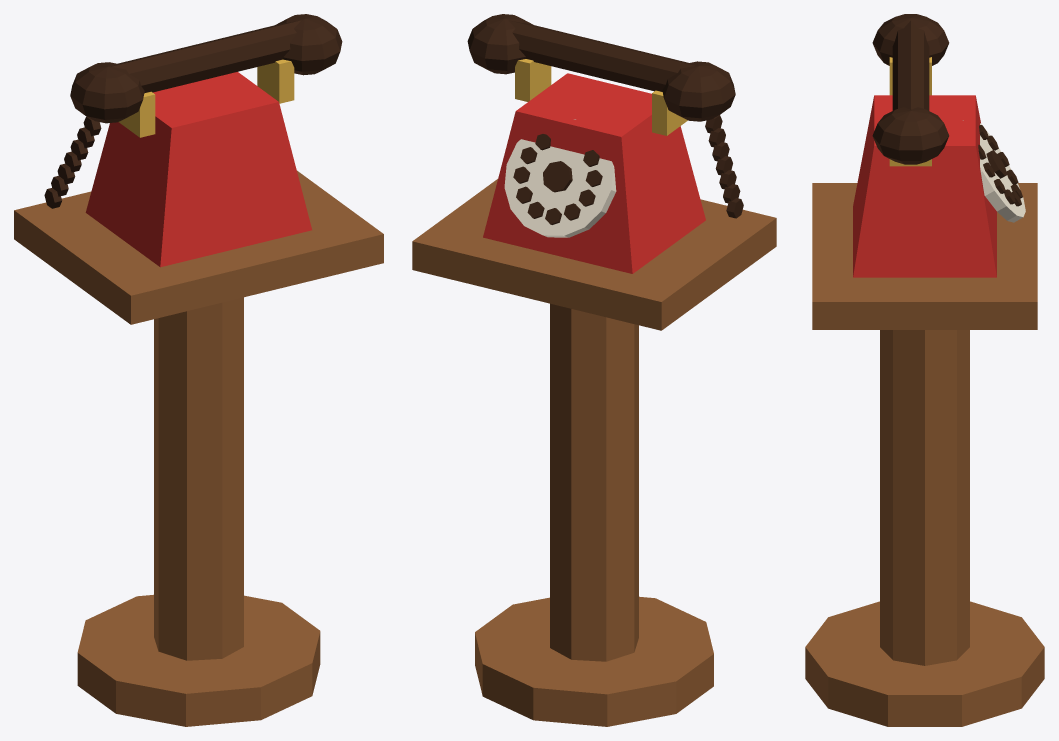
The model's file is Telephone.fbx.
3 views of the same model, side by side, from view 1: azimuth 30°, elevation 25°; view 2: azimuth 150°, elevation 25°; view 3: azimuth 270°, elevation 25° (orthographic). The views are drawn at different scales.
Parts seen in each view (by area): view 1: Wood, PhoneRed, Receiver, Brass, Cord; view 2: Wood, PhoneRed, Receiver, Dial, DialHoles, Brass, Cord; view 3: Wood, PhoneRed, Receiver, Dial, DialHoles, Brass.
Part boxes in pixels (x1=…): Wood: x1=14, y1=170, x2=383, y2=726; PhoneRed: x1=85, y1=72, x2=311, y2=267; Receiver: x1=70, y1=14, x2=342, y2=123; Brass: x1=119, y1=59, x2=294, y2=137; Cord: x1=44, y1=116, x2=101, y2=208; Wood: x1=412, y1=179, x2=776, y2=726; PhoneRed: x1=483, y1=73, x2=705, y2=273; Receiver: x1=467, y1=14, x2=735, y2=121; Dial: x1=504, y1=119, x2=616, y2=237; DialHoles: x1=513, y1=134, x2=602, y2=224; Brass: x1=515, y1=59, x2=687, y2=135; Cord: x1=705, y1=115, x2=743, y2=218; Wood: x1=805, y1=183, x2=1044, y2=726; PhoneRed: x1=853, y1=95, x2=996, y2=277; Receiver: x1=872, y1=14, x2=949, y2=164; Dial: x1=963, y1=120, x2=1025, y2=222; DialHoles: x1=978, y1=125, x2=1022, y2=206; Brass: x1=889, y1=57, x2=931, y2=166.
Bounding box in the file's own units: 2.2 × 4.82 × 1.7.
